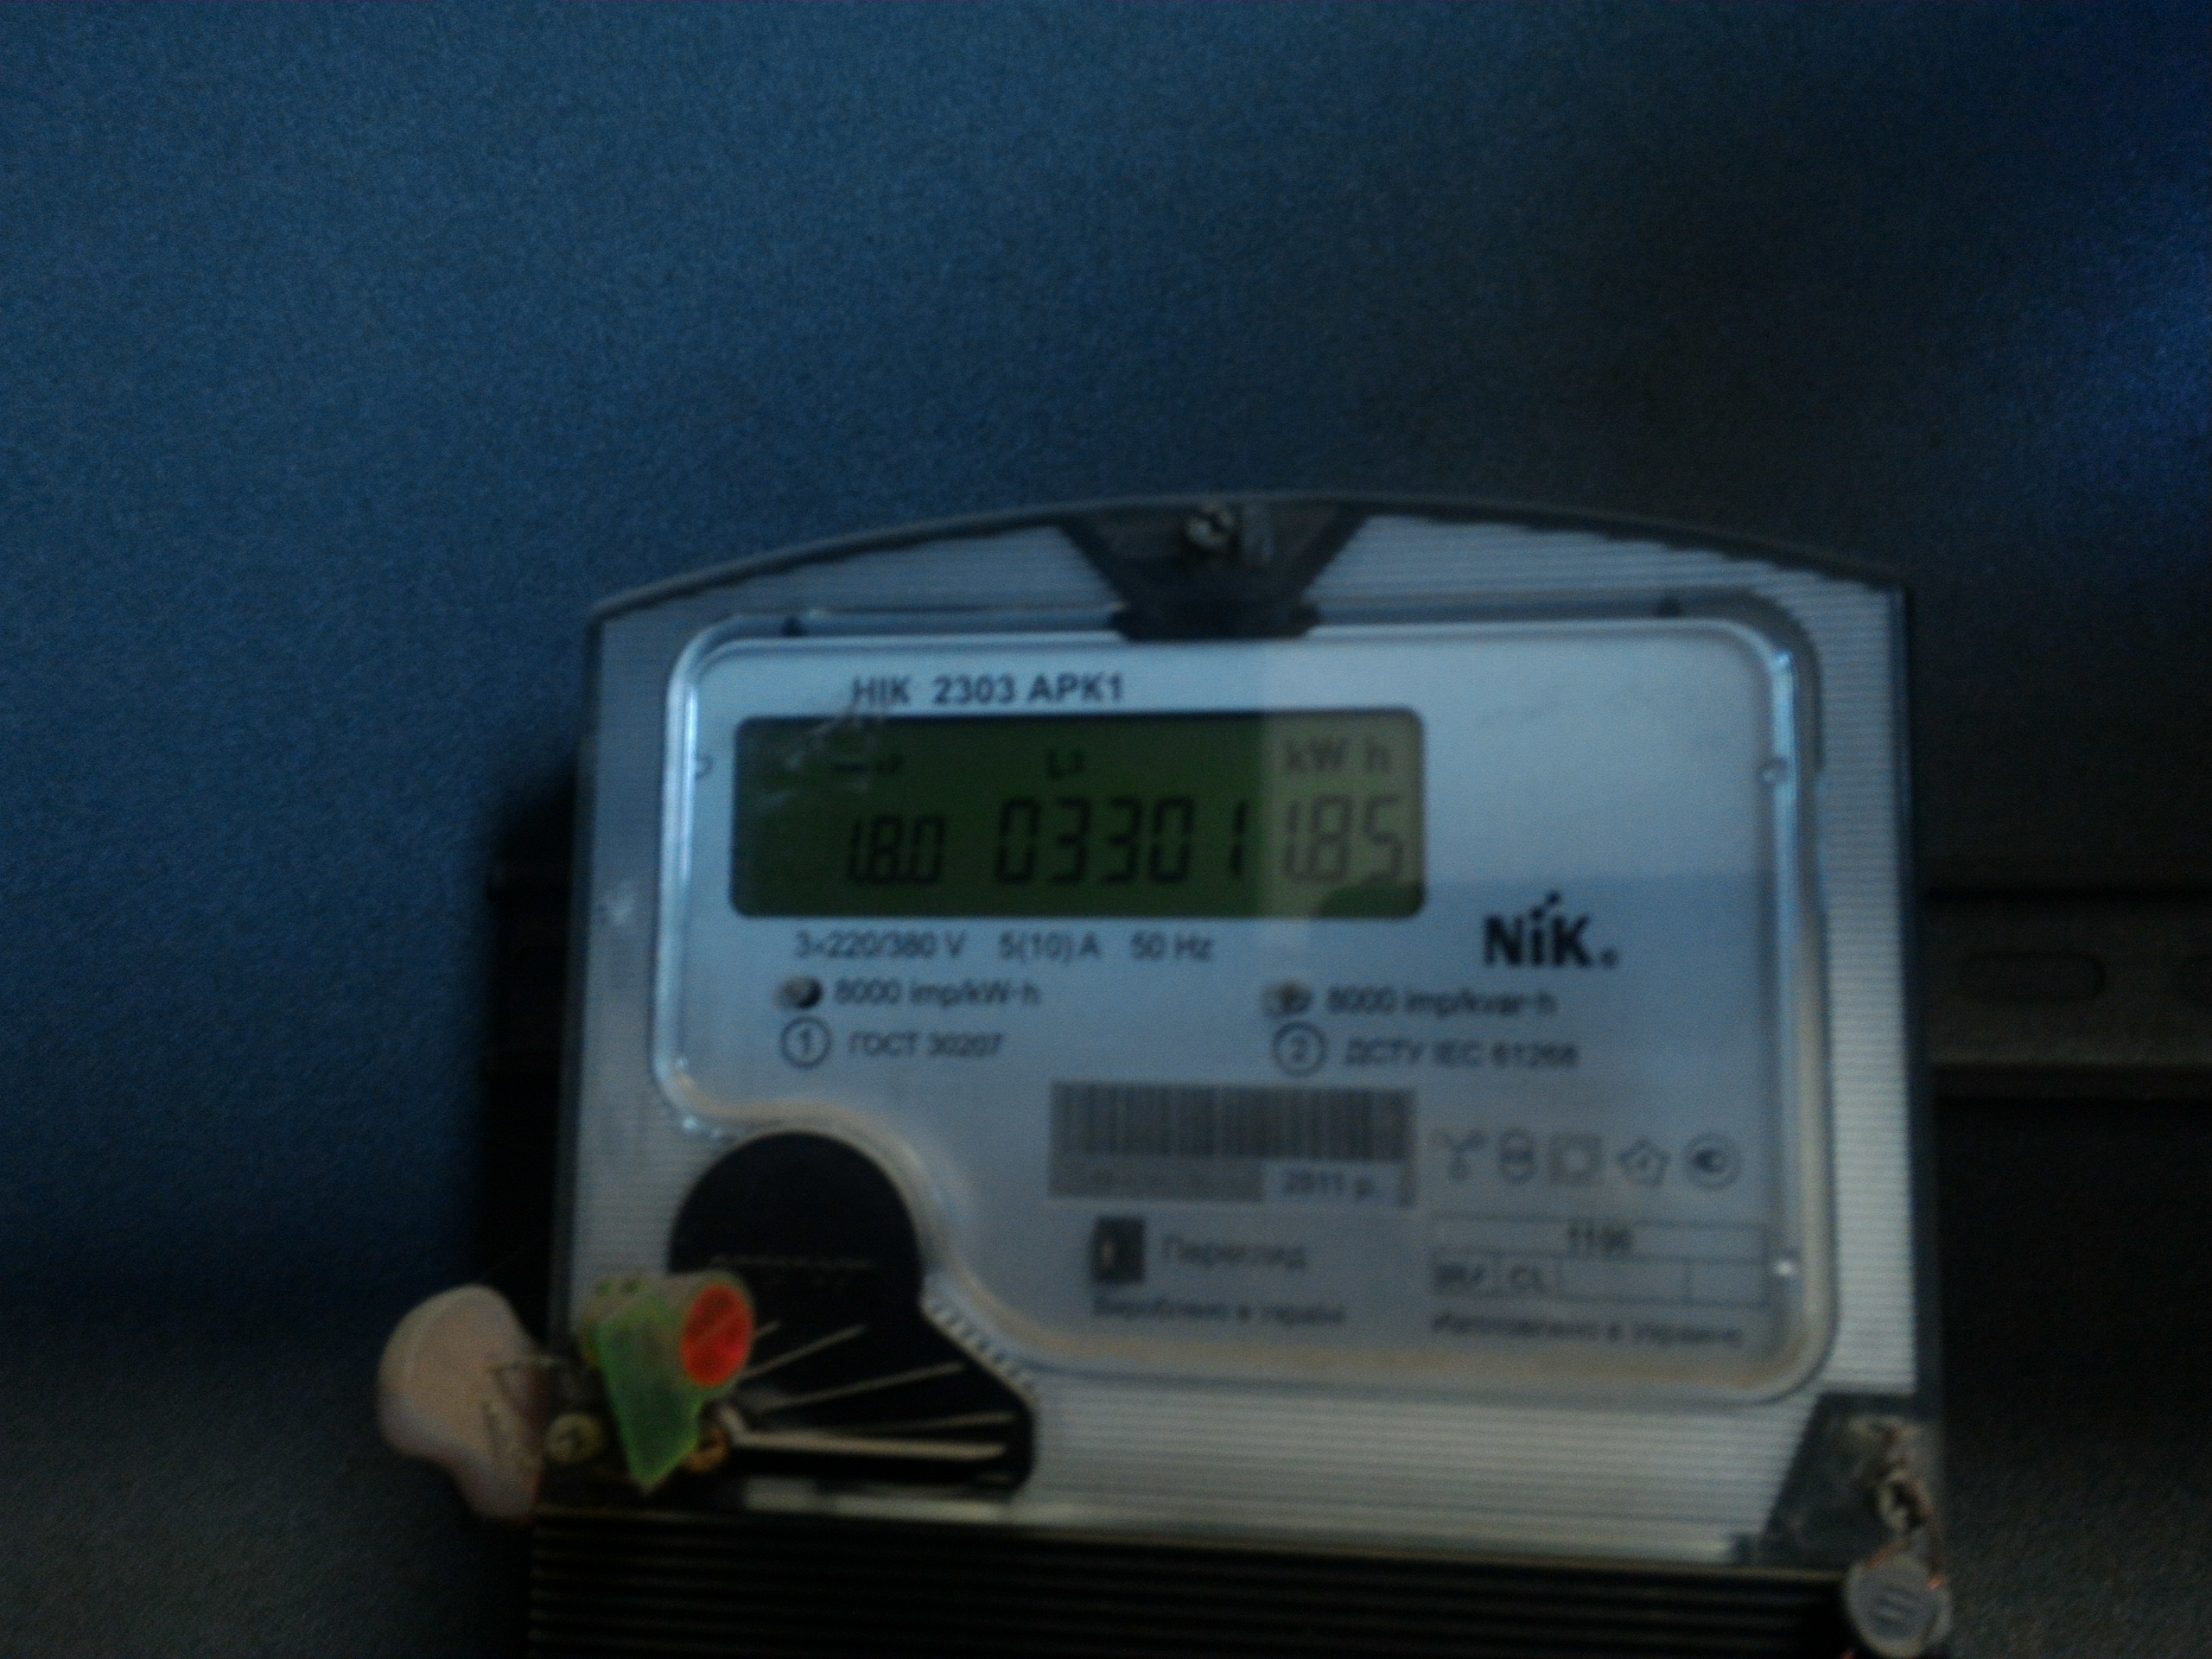screen: (704, 681, 1460, 948)
